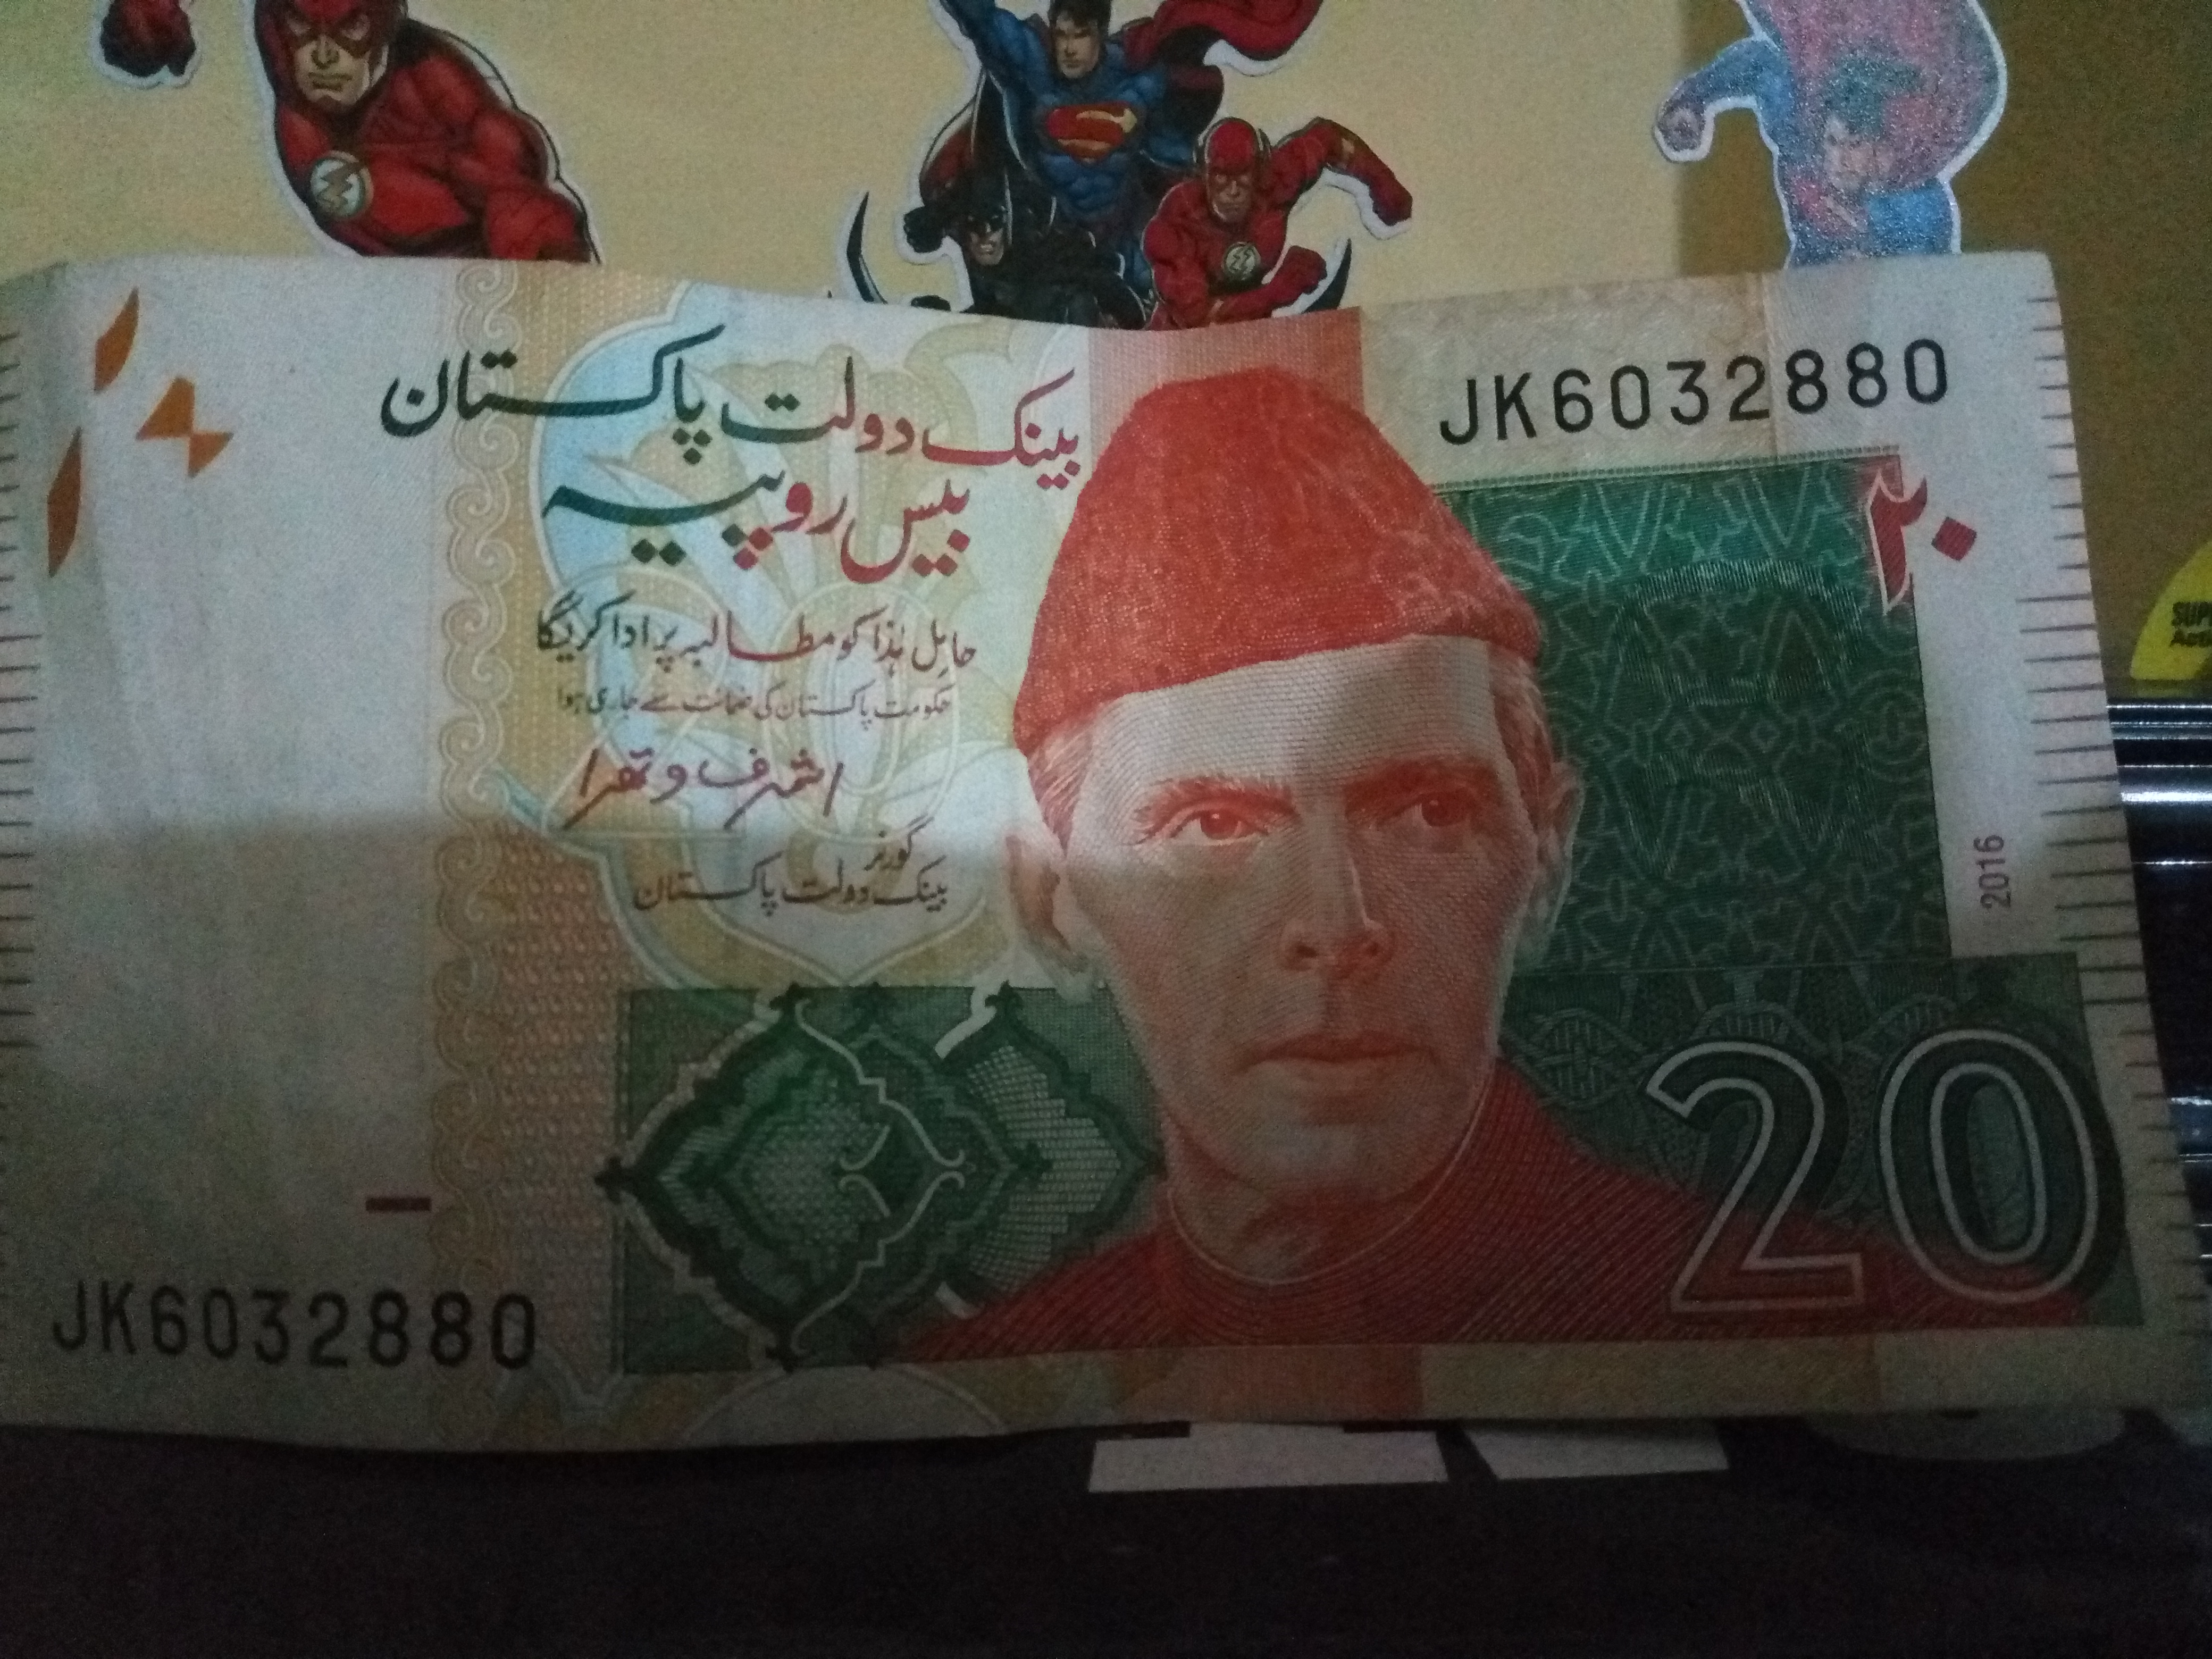20 rupee: (19, 193, 2203, 1511)
